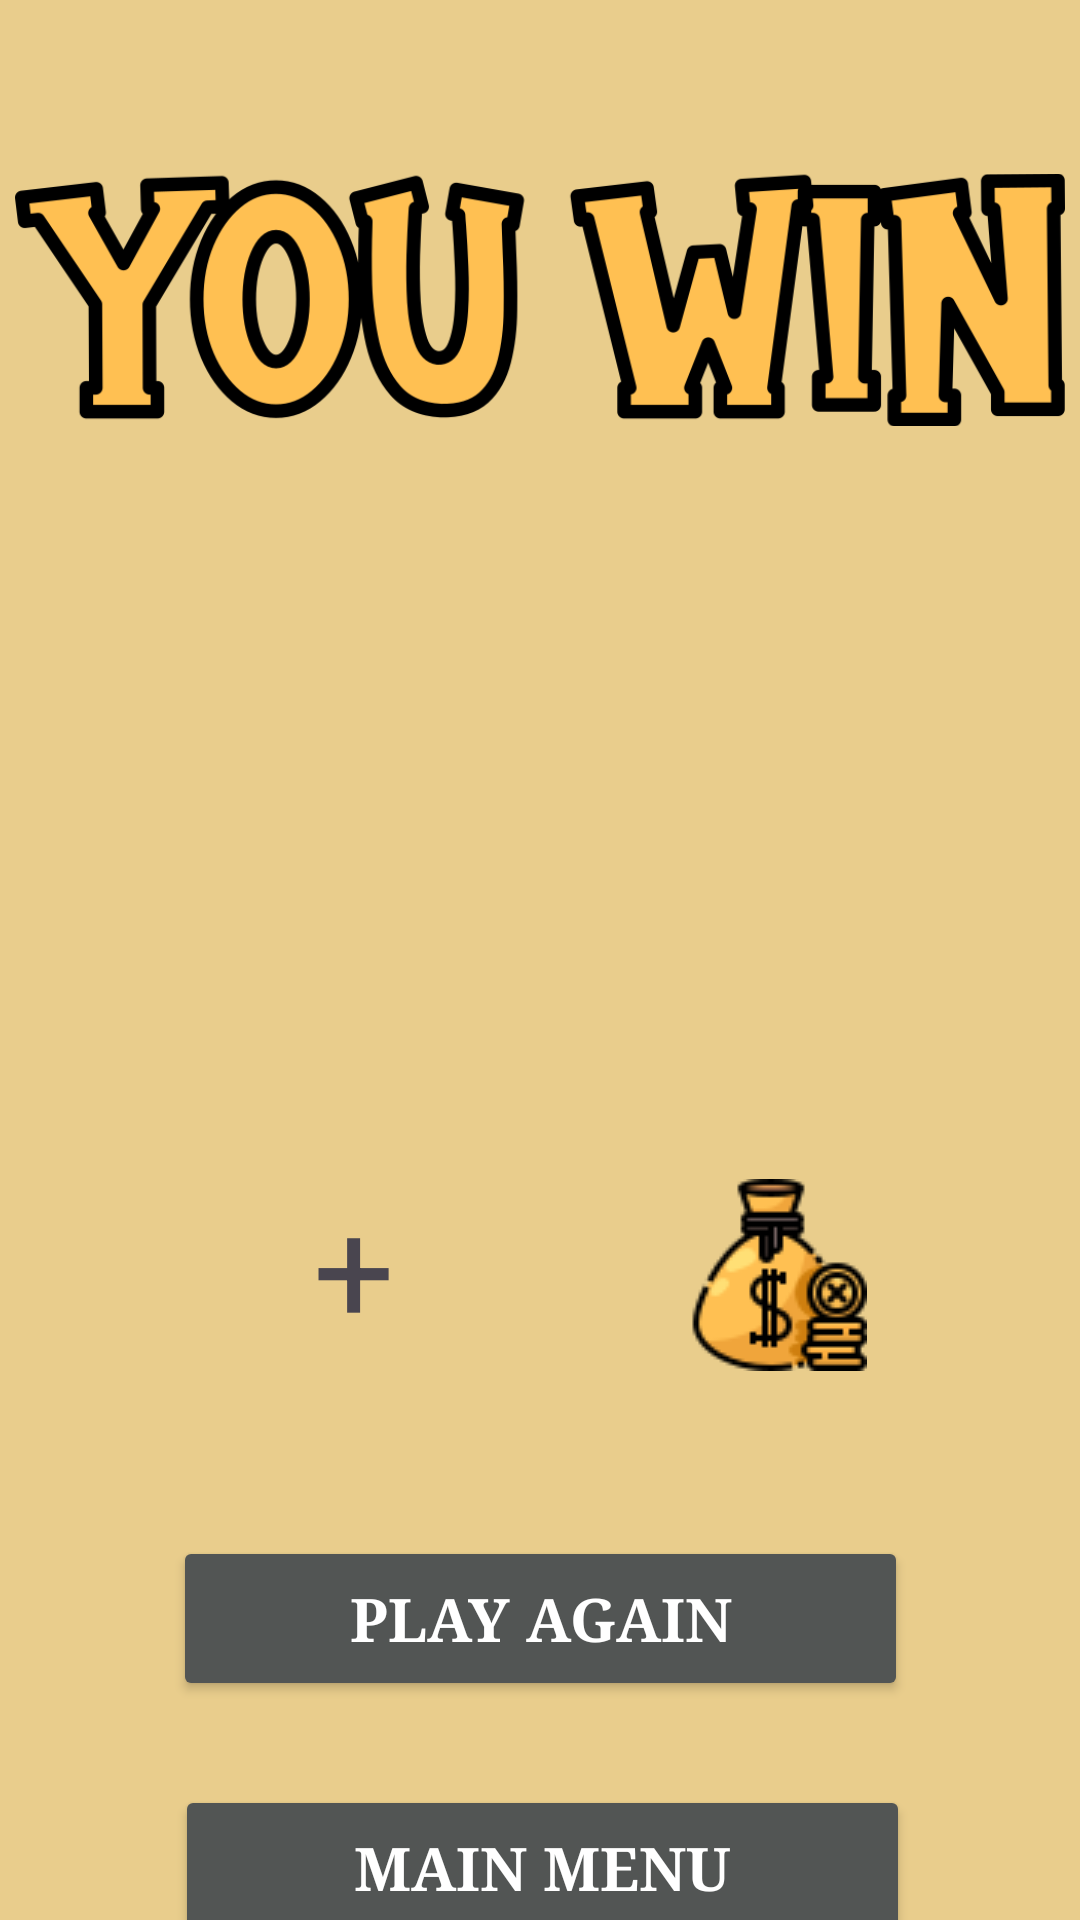

Named icons in this screenshot (1080px x 1920px) and their bounding boxes, (x1, y1, x2, y2):
coin: (692, 1179, 867, 1371)
